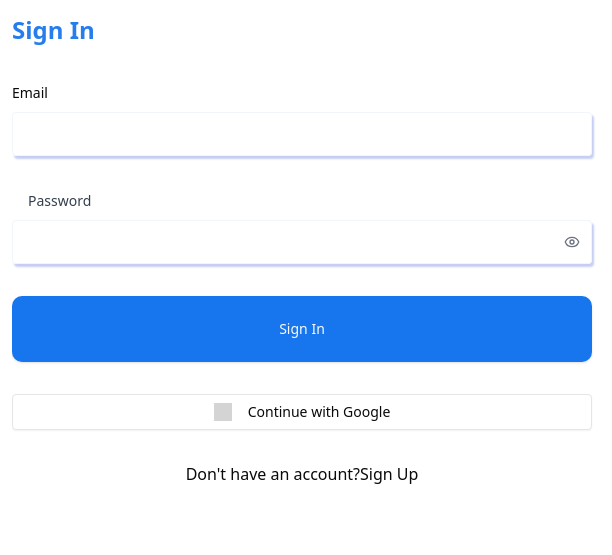
Scenario: AuthForm – Sign In › validates email and password fields
Click the button "Sign In".
click(302, 329)  # box [12, 296, 592, 362]
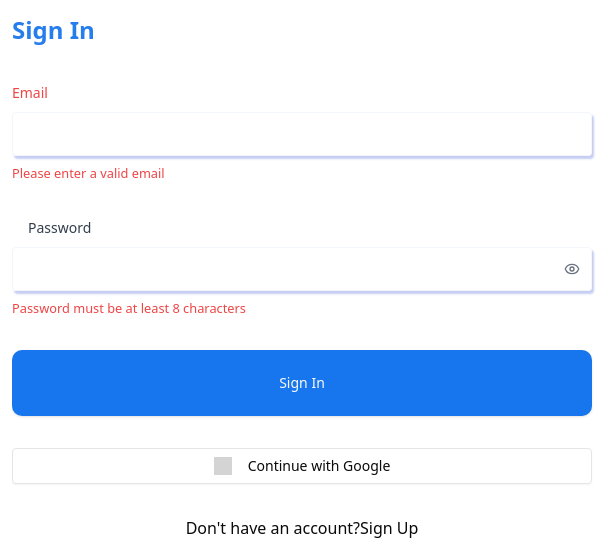
Expected: the text "Please enter a valid email" is shown, [12, 164, 165, 182]
Expected: the text "Password must be at least 8 characters" is shown, [12, 299, 246, 317]
